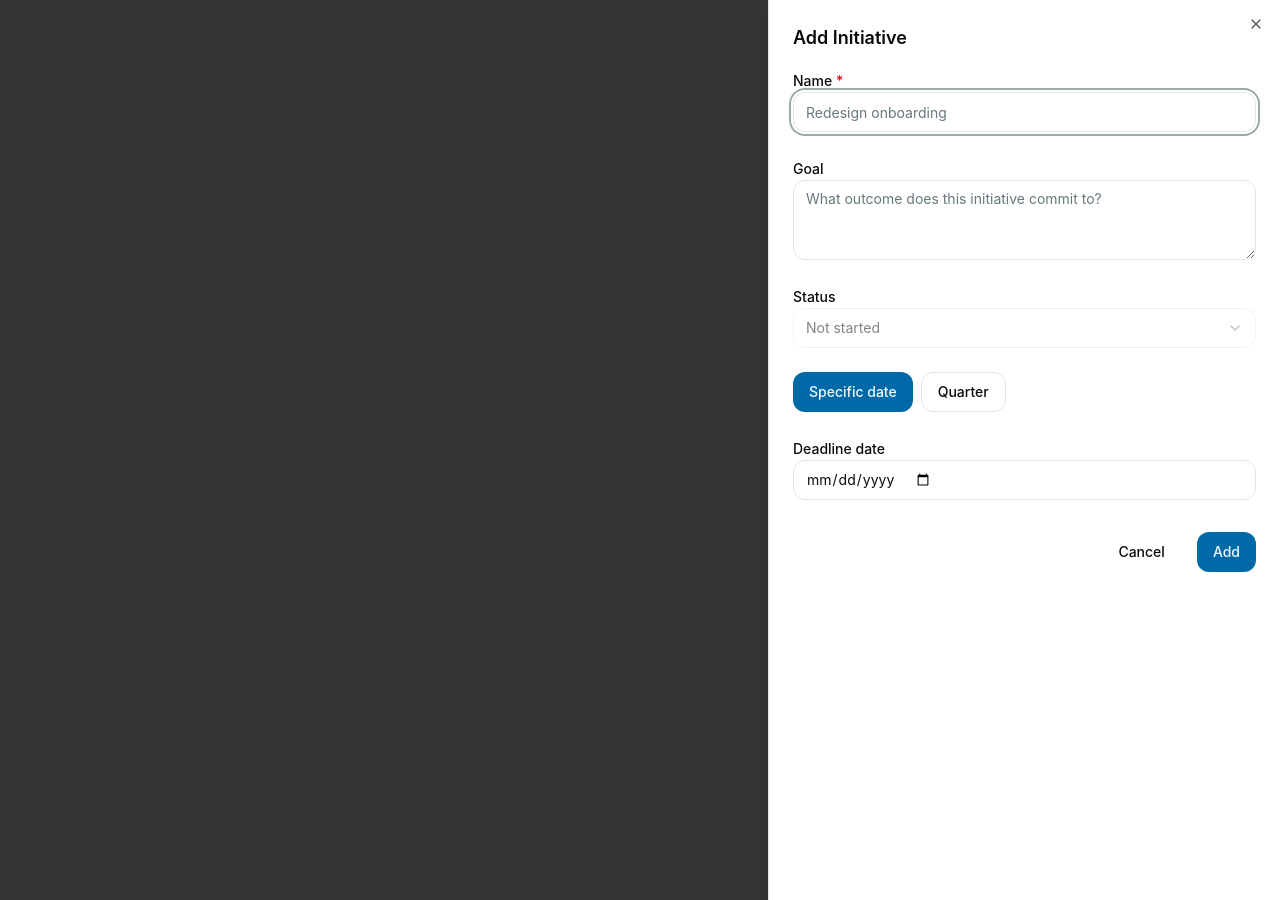
Scenario: InitiativeSheet › requires a deadline date when the deadline type is date
Type "No deadline date" into the field labelled "Name *". click: (1024, 112)
box: [793,92,1256,132]
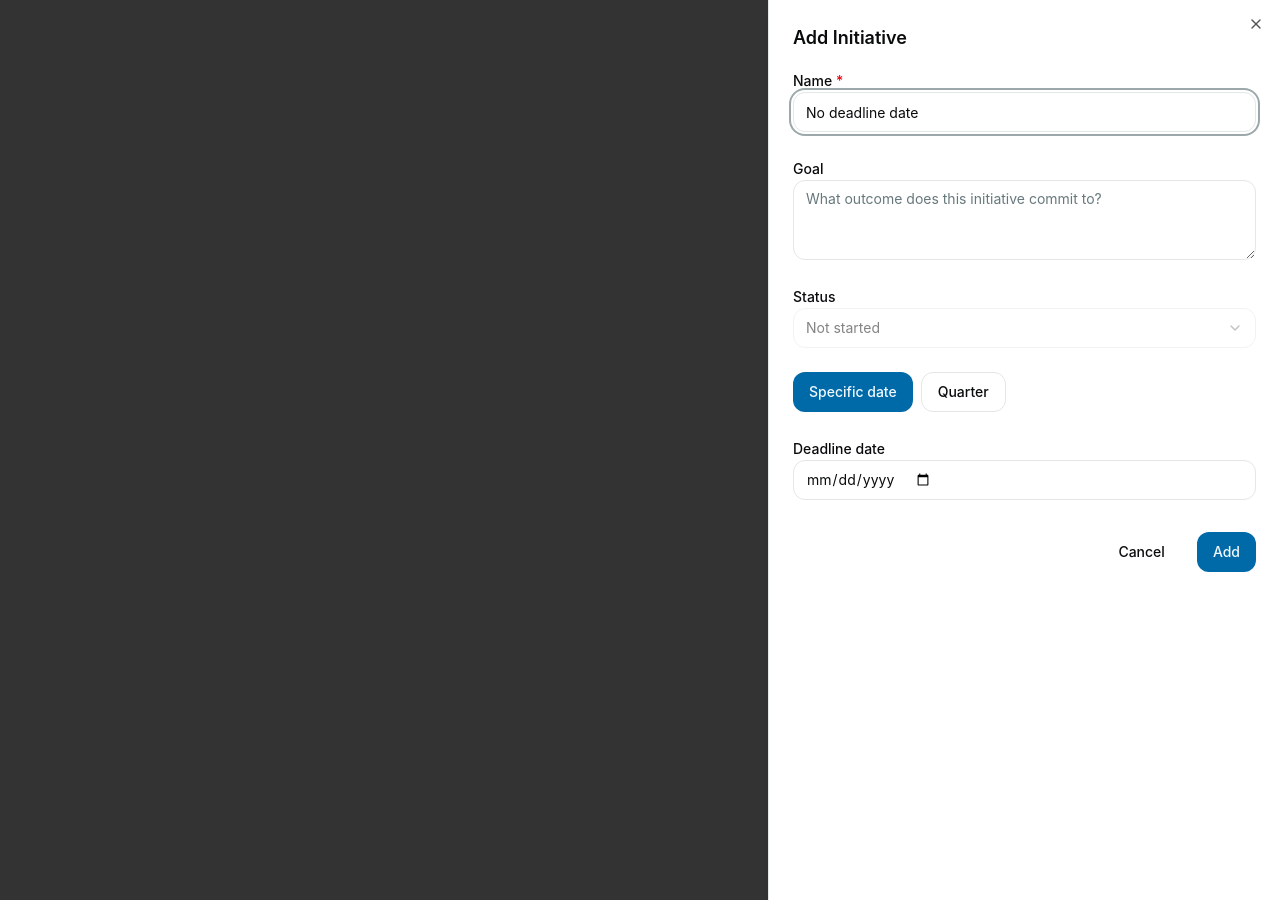
Click the button "Add". click: (1226, 552)
box: [1197,532,1256,572]
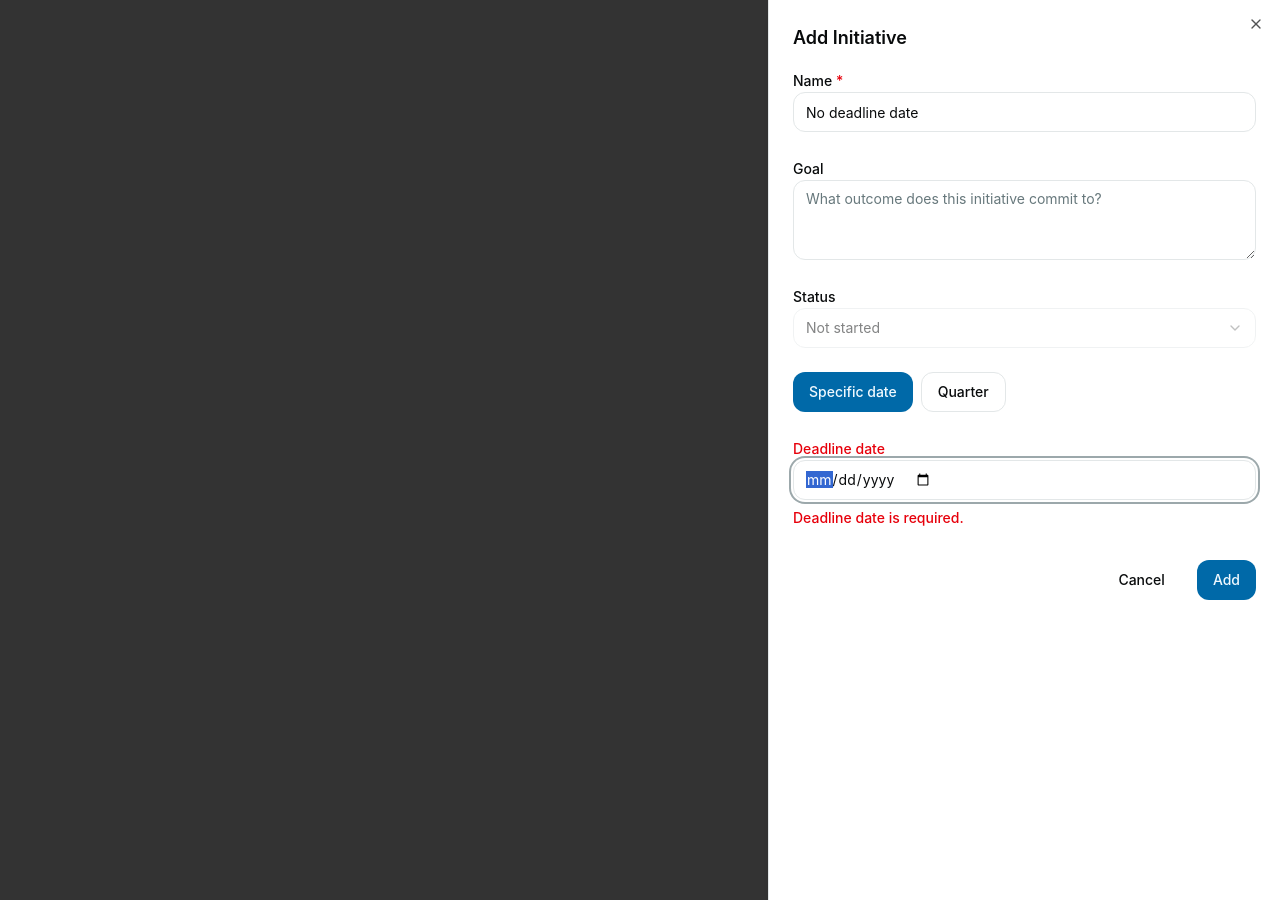
Expected: the text "Deadline date is required." is shown, [793,509,964,526]
